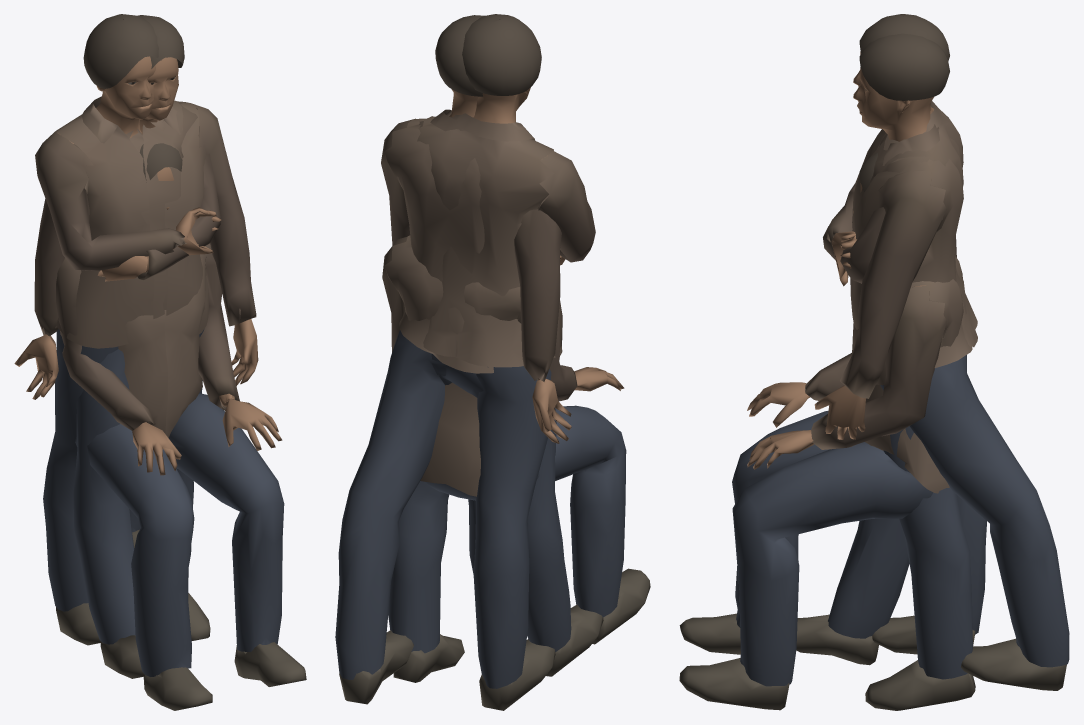
File: crowd-06-crowd.glb
3 renders of one model, left to right at view 1: azimuth 30°, elevation 25°; view 2: azimuth 150°, elevation 25°; view 3: azimuth 270°, elevation 25°, orthographic. The views are drawn at different scales.
Parts seen in each view (by area): view 1: seated, standing, walking; view 2: standing, walking, seated; view 3: walking, seated, standing.
Part boxes in pixels (x1,y1,x2,y2): seated: (56, 143, 306, 710); standing: (35, 14, 221, 645); walking: (14, 15, 258, 678); standing: (388, 14, 595, 710); walking: (335, 15, 603, 704); seated: (382, 235, 650, 644); walking: (796, 33, 1069, 690); seated: (679, 153, 963, 710); standing: (823, 14, 986, 710).
Bounding box in the file's own units: 0.5454 × 1.71 × 0.9233.
